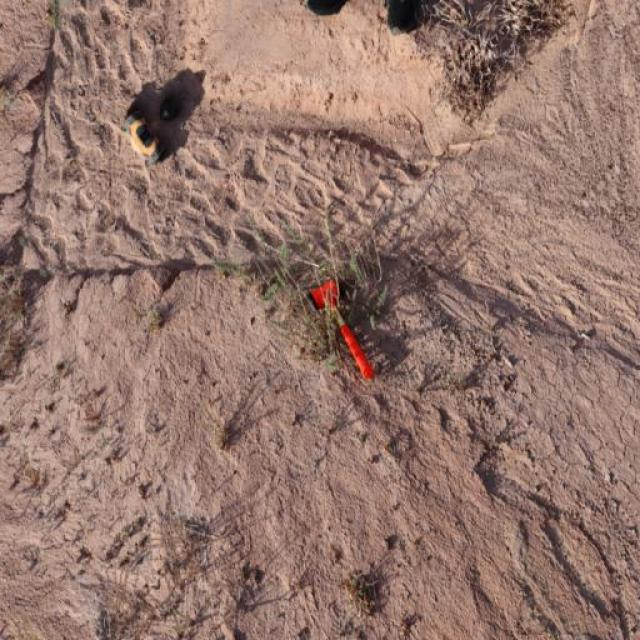mallet: (309, 278, 375, 380)
